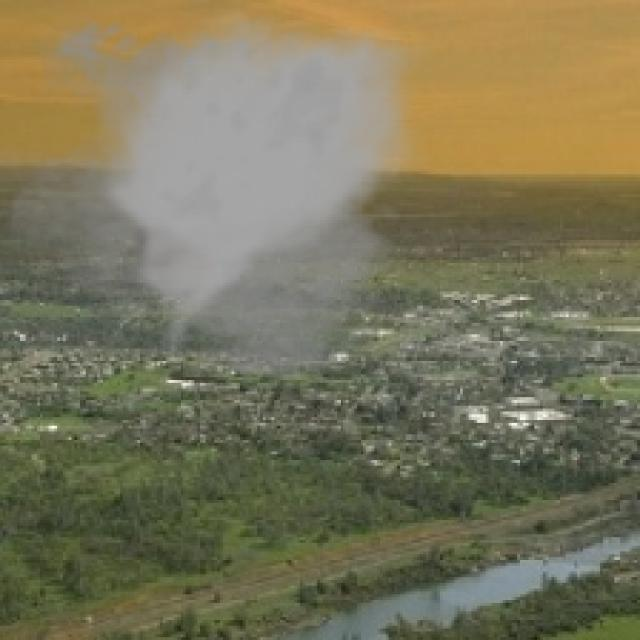smoke: (6, 8, 431, 386)
